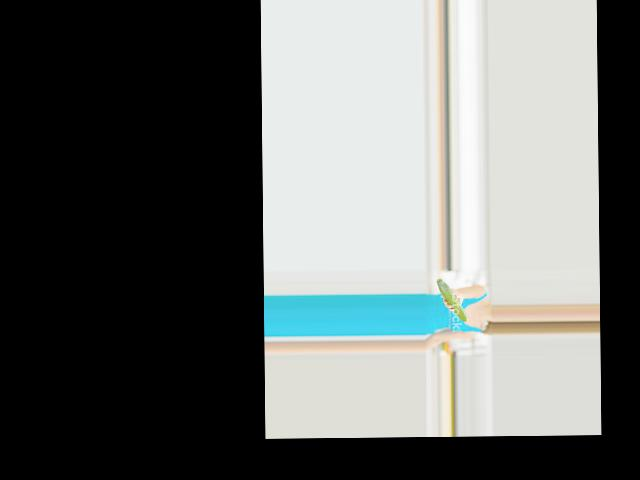cucumber: (436, 278, 467, 322)
